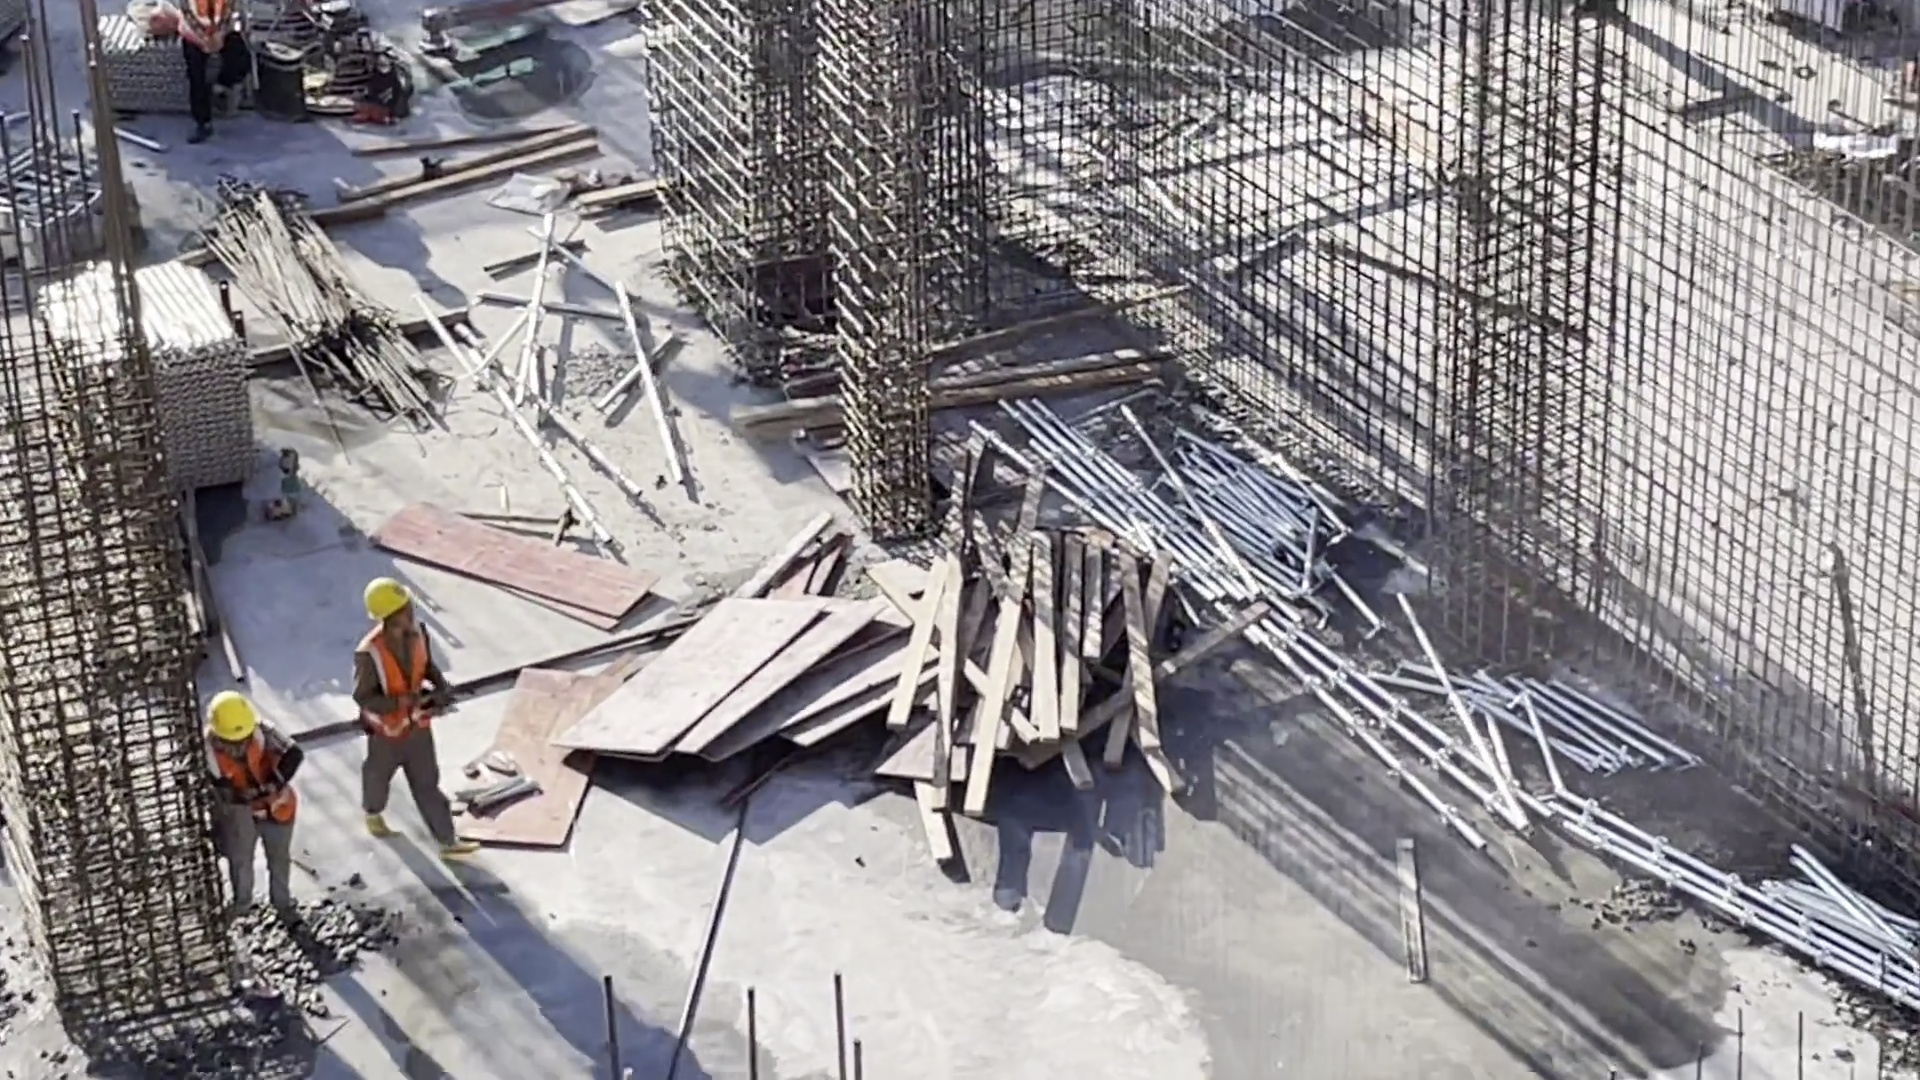board: (564, 595, 901, 764)
helmet: (214, 689, 271, 742), (359, 580, 417, 624)
person: (359, 565, 464, 864), (189, 698, 314, 919), (162, 1, 259, 127)
scaffold: (1063, 366, 1307, 613), (39, 266, 249, 499), (1447, 637, 1652, 790), (1766, 859, 1920, 1010), (1, 130, 114, 250)
vest: (201, 727, 295, 821), (358, 622, 436, 727)
wood: (914, 537, 1147, 812)
